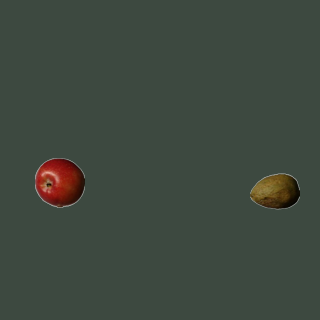Apple Braeburn: (34, 157, 84, 207)
Papaya: (249, 166, 299, 216)
